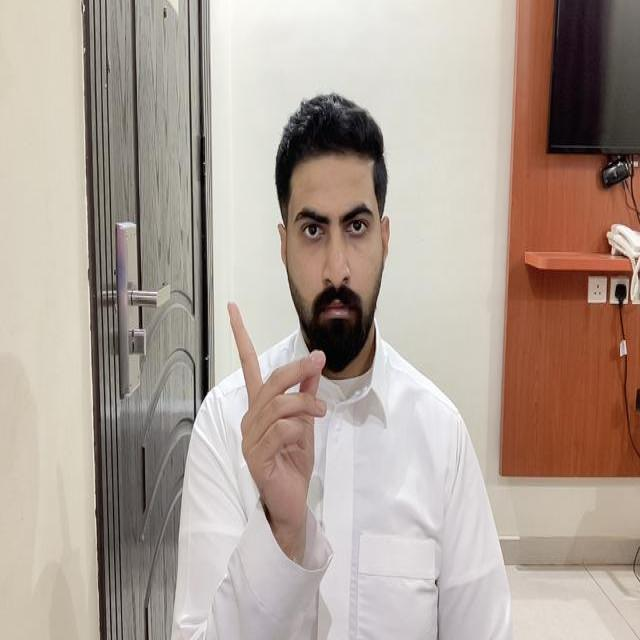emergency: (225, 300, 327, 536)
